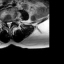CCS_normal: (8, 19, 10, 30)
LFS_stenosis: (12, 17, 14, 25)
LLS_normal: (10, 18, 12, 27)
RFS_severe_stenosis: (4, 18, 6, 25)
RLS_normal: (6, 19, 8, 27)
